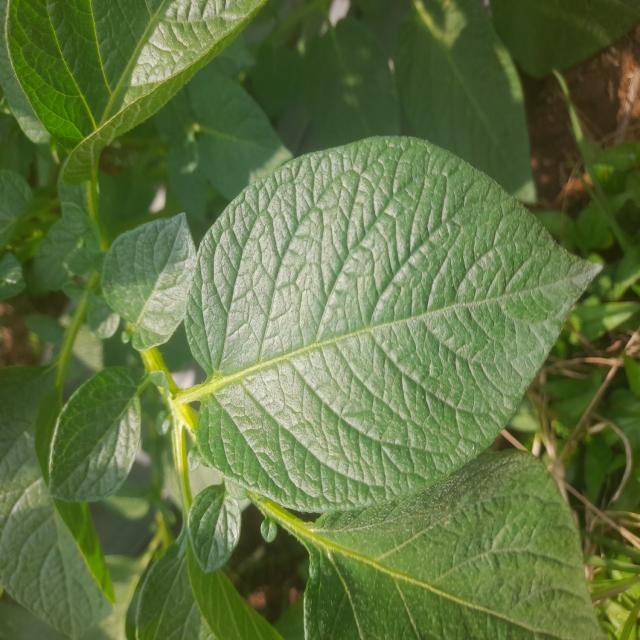healthy: (180, 132, 603, 517)
